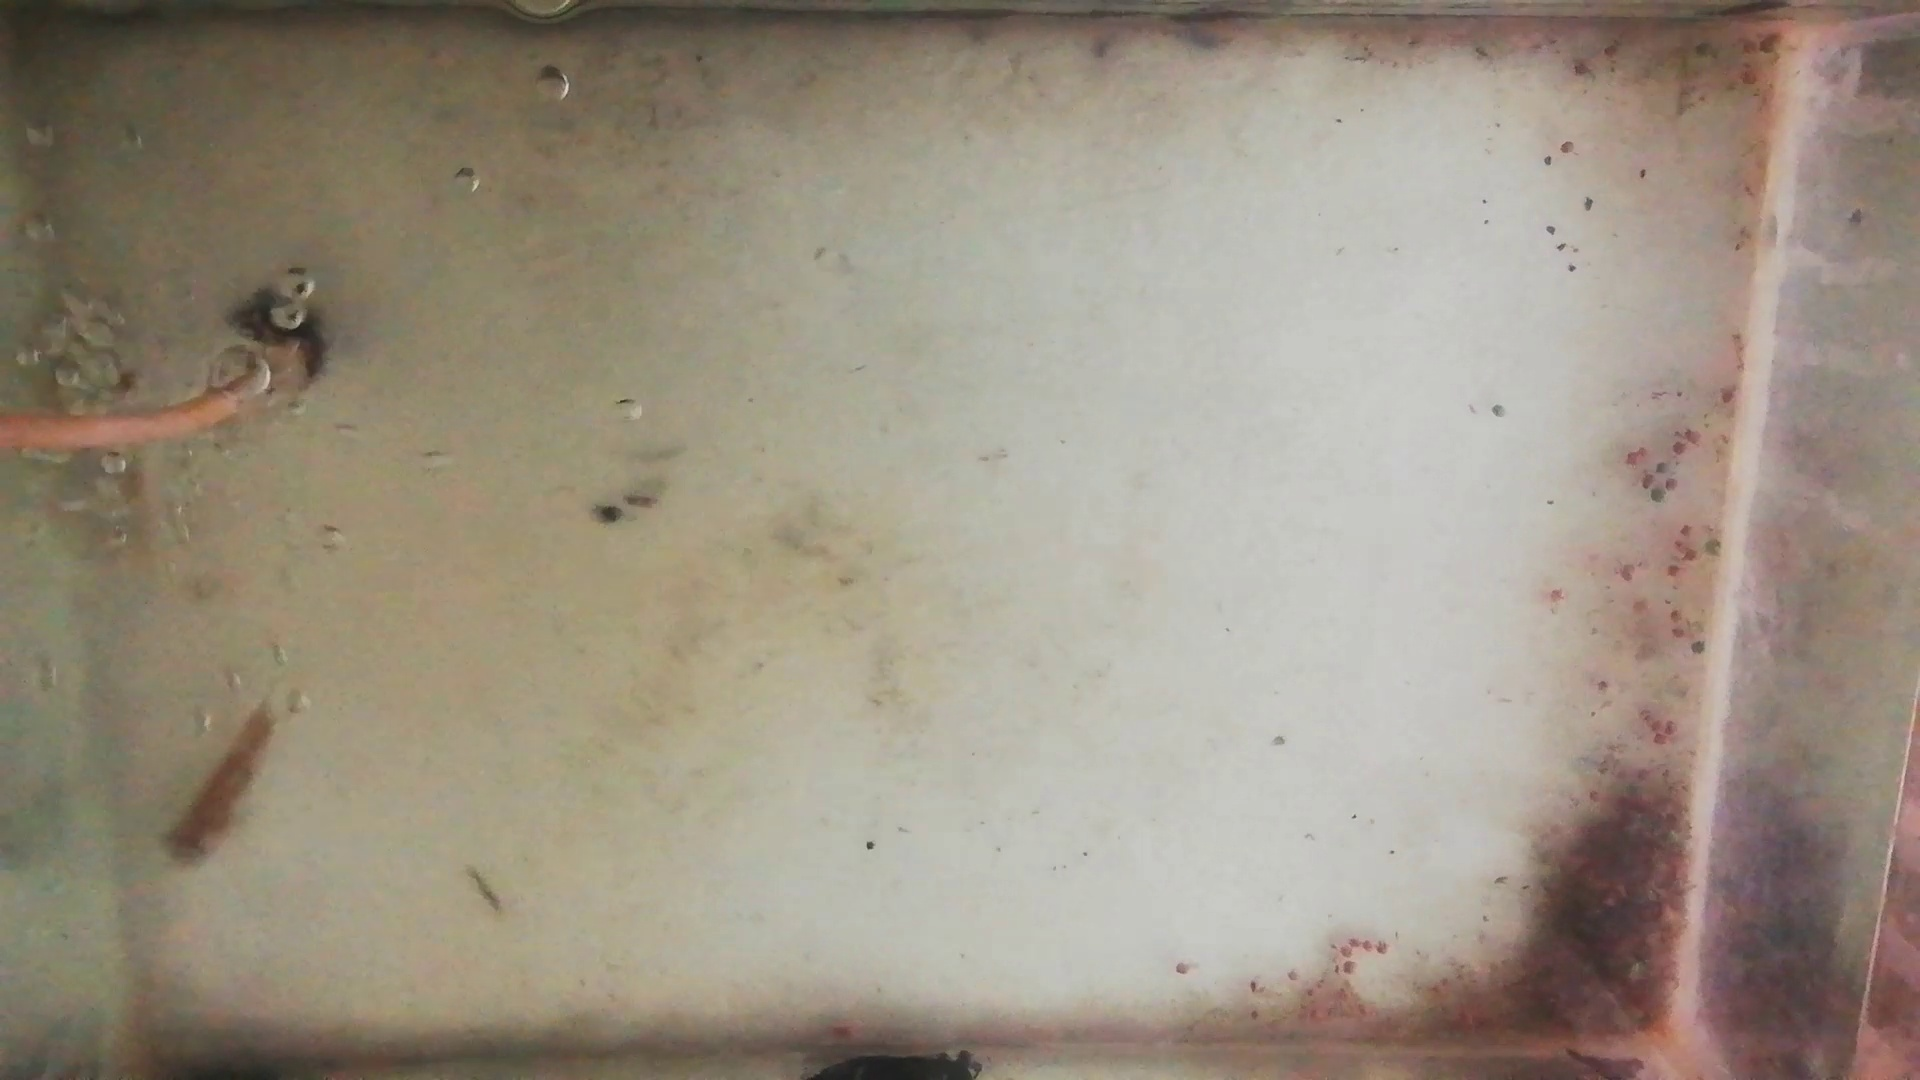fish: (160, 698, 278, 869), (37, 326, 142, 415)
